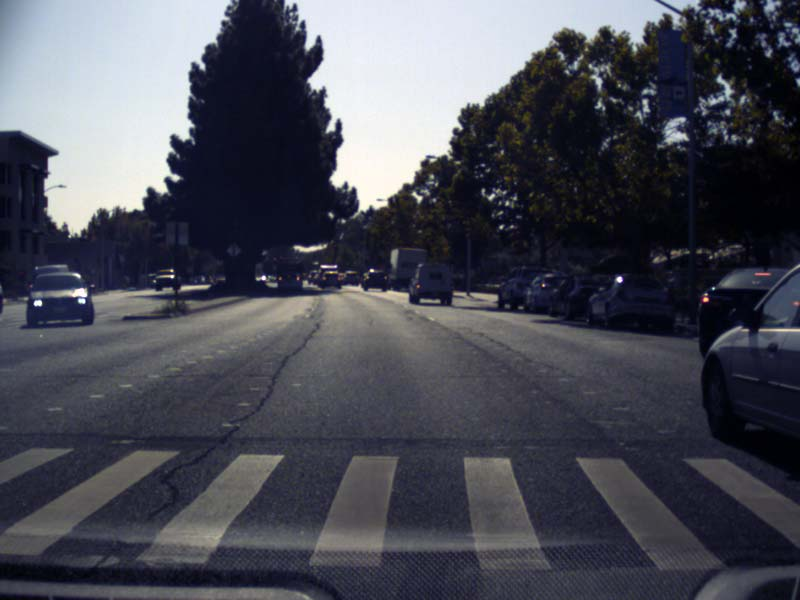Green: (310, 258, 319, 269)
Red: (293, 254, 298, 262)
Yellow: (272, 252, 277, 263)
